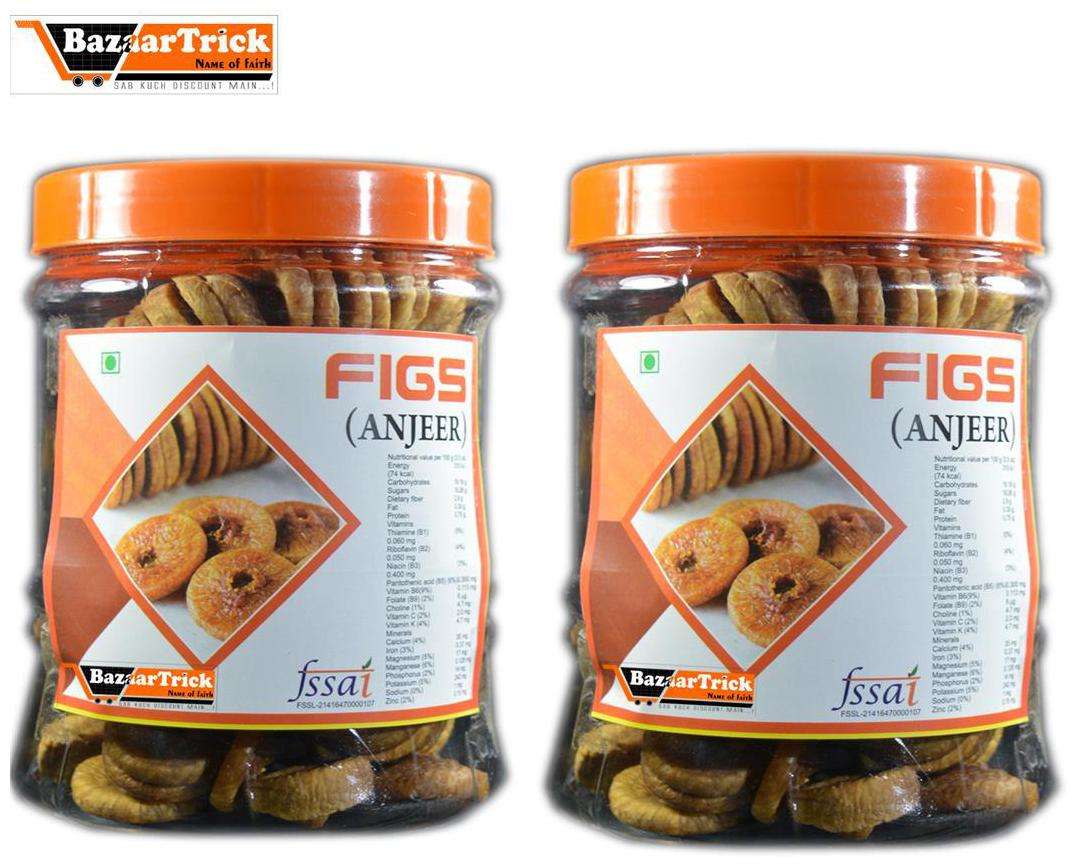JAR: (540, 146, 1069, 850), (8, 139, 517, 832)
